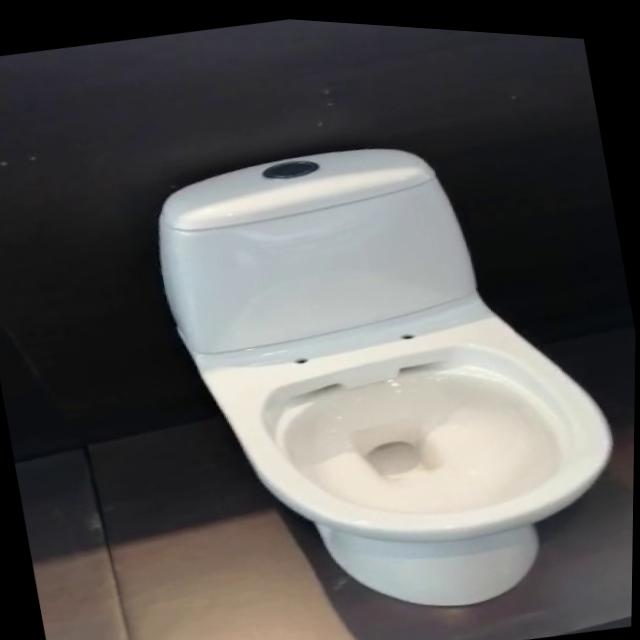toilet: (138, 92, 639, 640)
